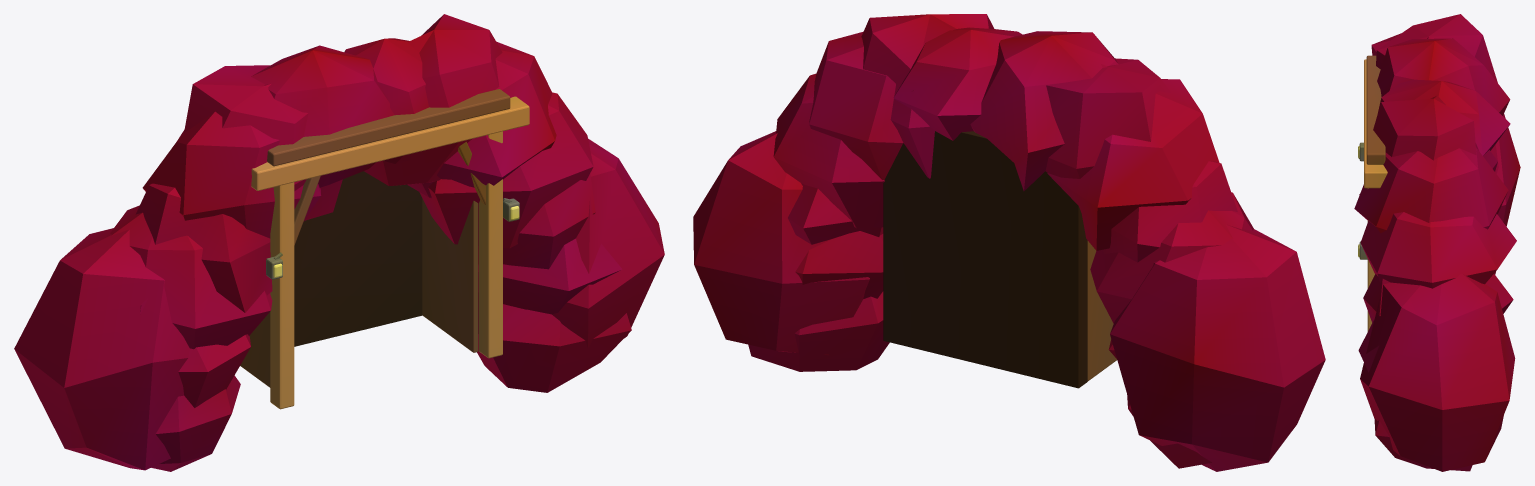
Rendered from Mine_Entrance_01.glb.
The picture shows the model from 3 angles, left to right: view 1: azimuth 30°, elevation 25°; view 2: azimuth 150°, elevation 25°; view 3: azimuth 270°, elevation 25°; orthographic projection. The views are drawn at different scales.
Parts seen in each view (by area): view 1: Mine_Entrance_01; view 2: Mine_Entrance_01; view 3: Mine_Entrance_01.
Part boxes in pixels (x1,y1,x2,y2): Mine_Entrance_01: (14,14,664,471); Mine_Entrance_01: (693,14,1325,471); Mine_Entrance_01: (1354,14,1520,471).
Bounding box in the file's own units: 13.97 × 8.41 × 3.84.
